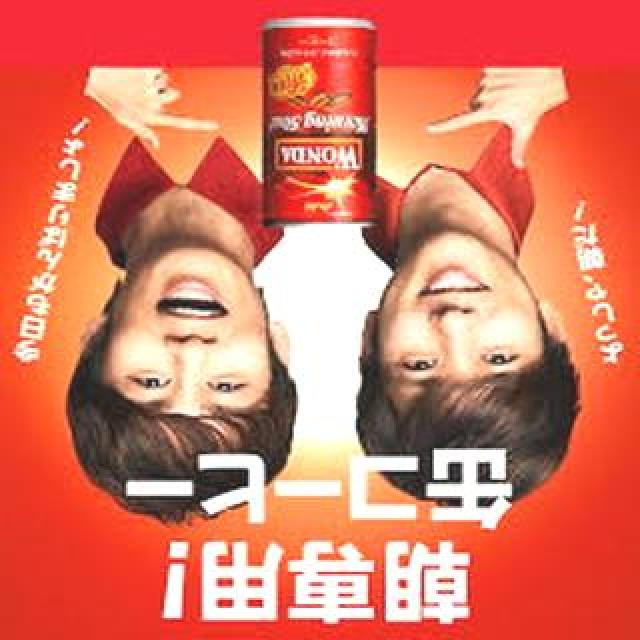Can: (248, 12, 390, 238)
